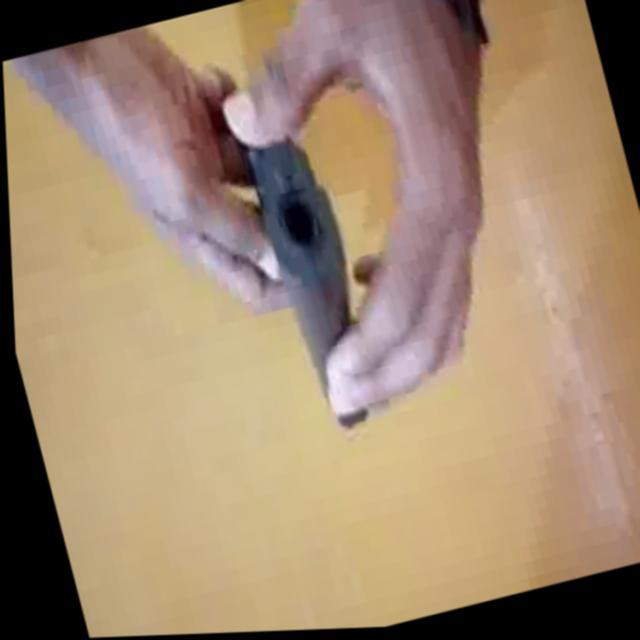weapon: (237, 126, 386, 441)
